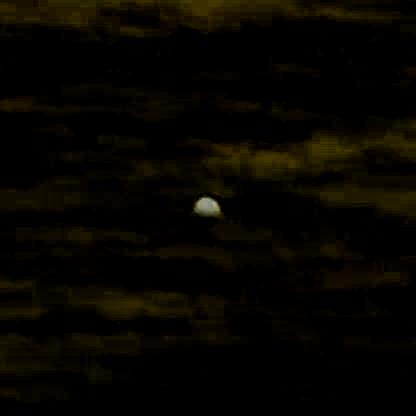golfball: (192, 194, 222, 222)
